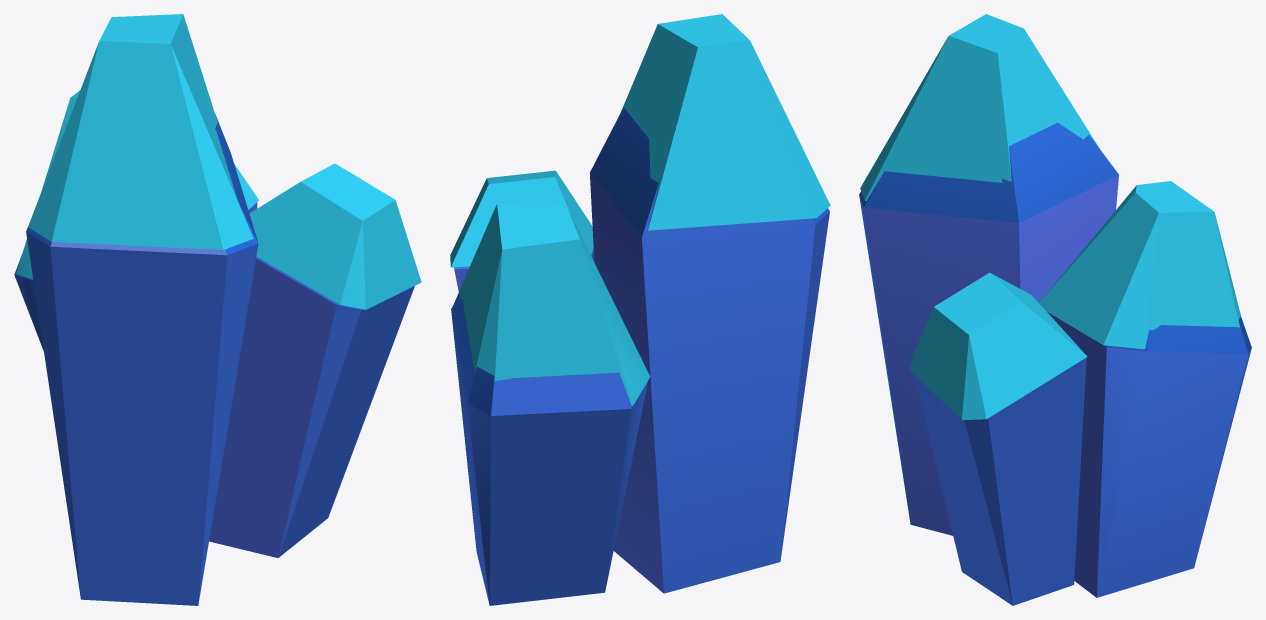
File: CrystalBlue.glb
3 views of the same model, side by side, from view 1: azimuth 30°, elevation 25°; view 2: azimuth 150°, elevation 25°; view 3: azimuth 270°, elevation 25° (orthographic). The views are drawn at different scales.
Parts seen in each view (by area): view 1: CrystalBlue; view 2: CrystalBlue; view 3: CrystalBlue.
Boxes of the visible parts, x1,y1,x2,y2 form: CrystalBlue: [14, 14, 421, 605]; CrystalBlue: [450, 14, 830, 605]; CrystalBlue: [859, 14, 1251, 605].
Size of the model in its own units: 1.89 by 2.56 by 1.87.
1 material, 1 textured.
